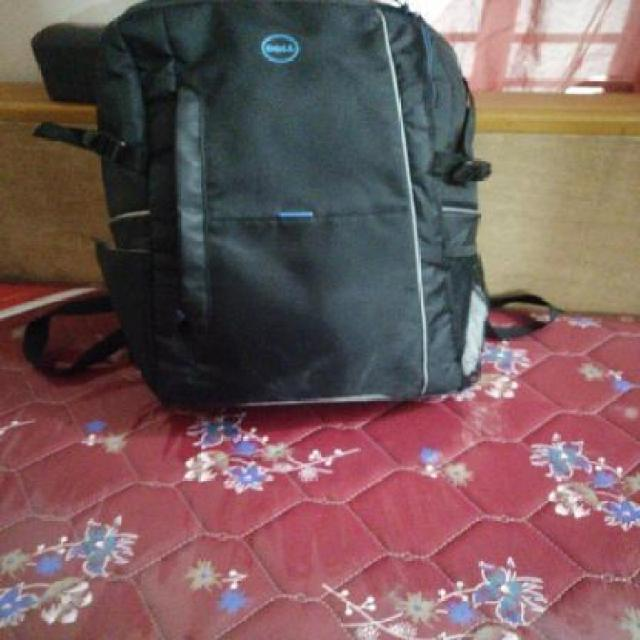backpack: (31, 1, 497, 412)
